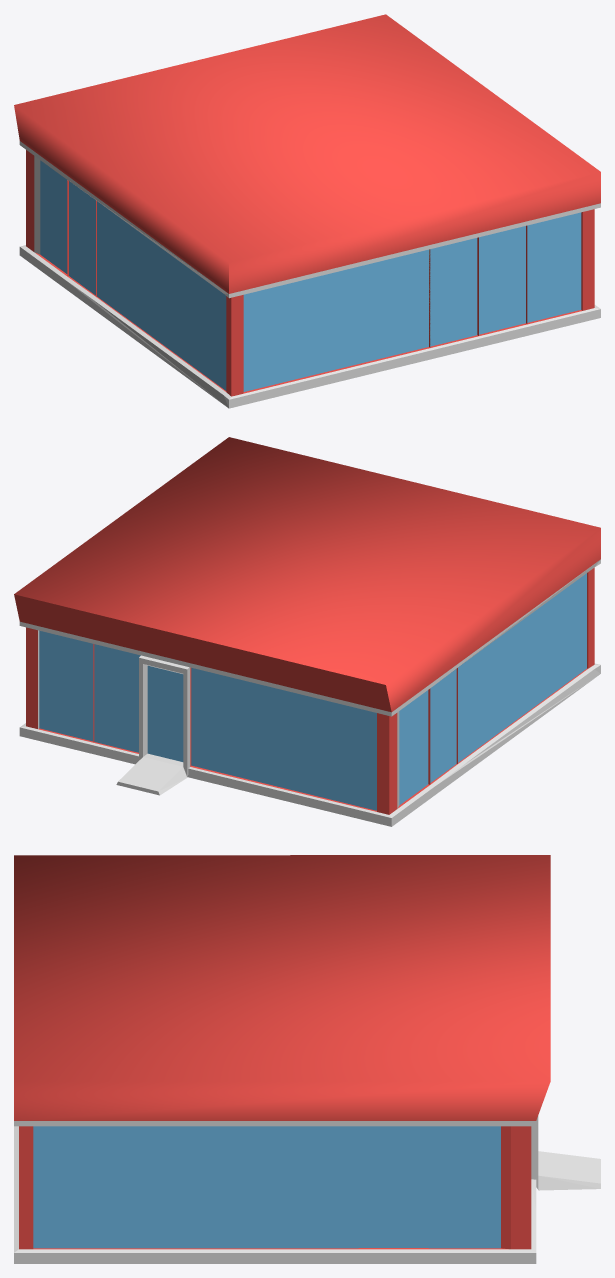
The model's file is Shop8x8x3Red.fbx.
3 views of the same model, one above another, from view 1: azimuth 30°, elevation 25°; view 2: azimuth 150°, elevation 25°; view 3: azimuth 270°, elevation 25° (orthographic). The views are drawn at different scales.
Parts seen in each view (by area): view 1: Shop.001; view 2: Shop.001; view 3: Shop.001.
Part boxes in pixels (x1,y1,x2,y2): Shop.001: (14,14,600,408); Shop.001: (14,437,600,826); Shop.001: (14,855,600,1263).
Size of the model in its own units: 7.96 by 2.99 by 8.72.
1 material, 1 textured.
